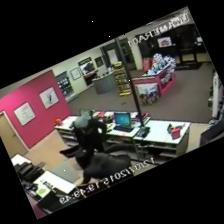person: (75, 145, 133, 186), (73, 112, 106, 153)
